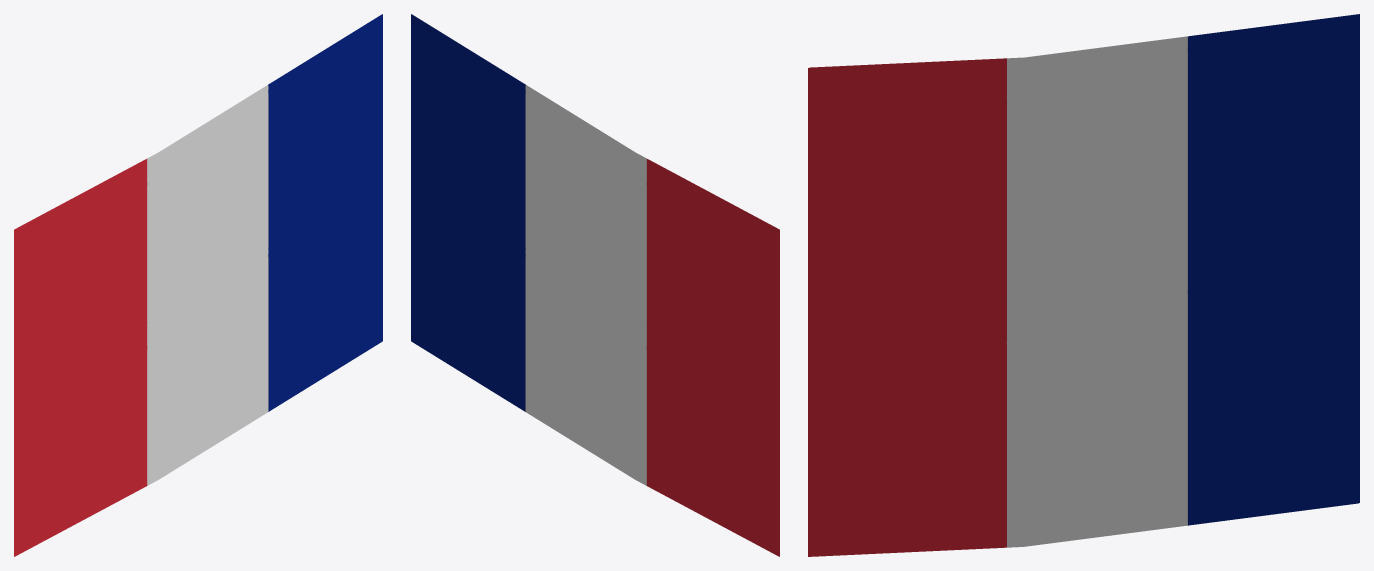
Rendered from fraflag.dae.
3 views of the same model, side by side, from view 1: azimuth 30°, elevation 25°; view 2: azimuth 150°, elevation 25°; view 3: azimuth 330°, elevation 25° (orthographic). The views are drawn at different scales.
Parts seen in each view (by area): view 1: flag; view 2: flag; view 3: flag.
Part boxes in pixels (<box>): flag: <box>14,14,382,556</box>; flag: <box>411,14,779,556</box>; flag: <box>808,14,1359,556</box>.
Size of the model in its own units: 16.1 by 0.035 by 18.9.
